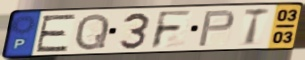3: (116, 11, 151, 51)
E: (33, 13, 79, 54)
F: (148, 9, 194, 50)
P: (196, 9, 237, 49)
Q: (73, 12, 112, 52)
T: (241, 7, 272, 47)
